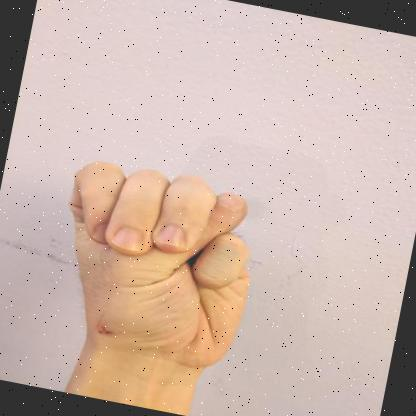M: (69, 161, 249, 372)
